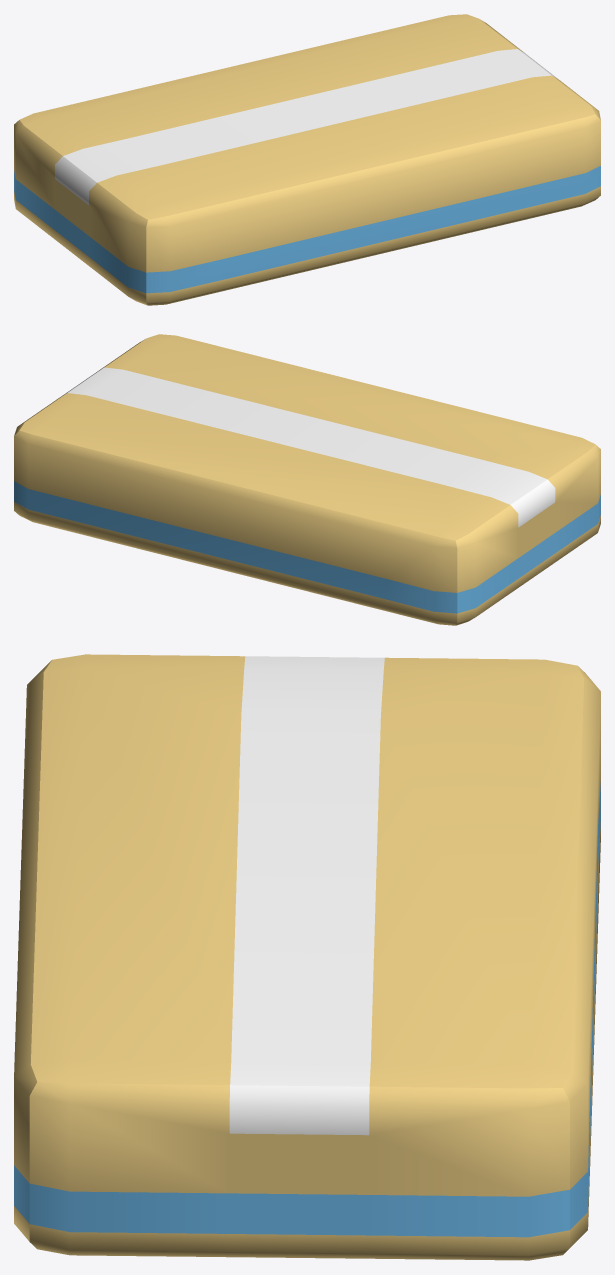
The model's file is Props_Box_Blue_03.fbx.
3 views of the same model, one above another, from view 1: azimuth 30°, elevation 25°; view 2: azimuth 150°, elevation 25°; view 3: azimuth 270°, elevation 25° (orthographic). The views are drawn at different scales.
Visible parts, largest first — view 1: Props_Box_Blue_03; view 2: Props_Box_Blue_03; view 3: Props_Box_Blue_03.
Boxes of the visible parts, x1,y1,x2,y2 form: Props_Box_Blue_03: (14, 14, 600, 305); Props_Box_Blue_03: (14, 334, 600, 625); Props_Box_Blue_03: (14, 654, 600, 1260).
Bounding box in the file's own units: 96.84 × 18.37 × 53.48.
